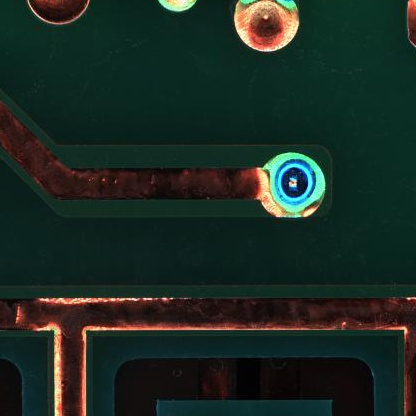spot: (262, 151, 328, 219)
